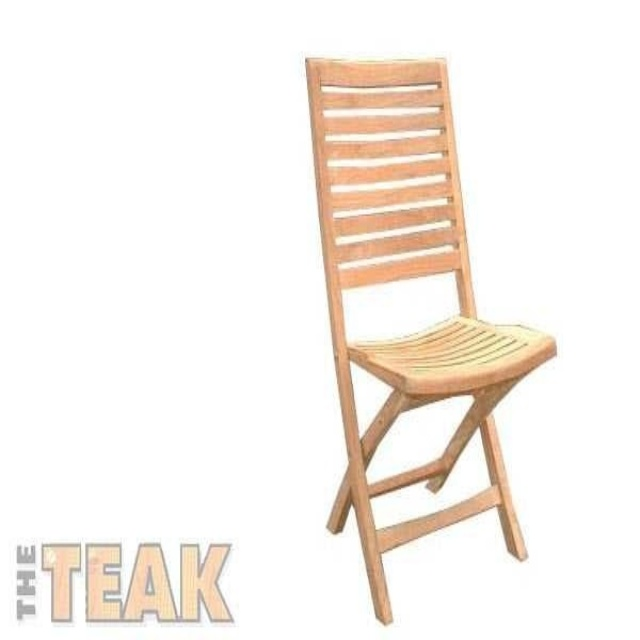obstacle: (306, 58, 555, 622)
